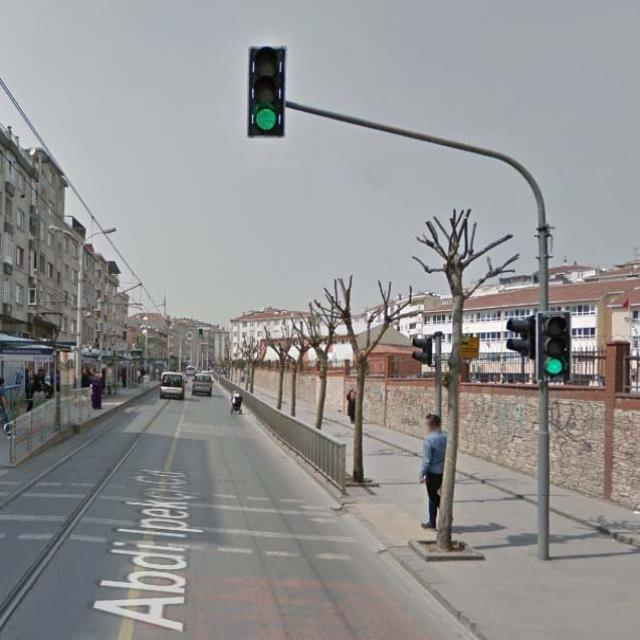yesil: (249, 46, 283, 136), (538, 310, 568, 380)
